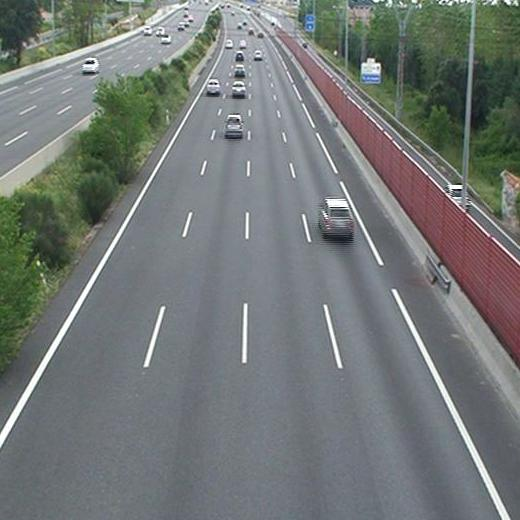car: (319, 198, 355, 235), (225, 114, 243, 136), (206, 79, 219, 95), (232, 82, 246, 95), (234, 66, 245, 77), (224, 38, 233, 49), (234, 52, 244, 61), (237, 38, 245, 48), (253, 50, 261, 58)
